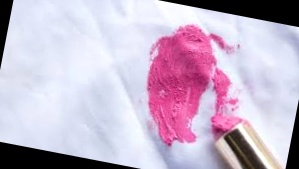lipstick: (127, 21, 247, 153)
